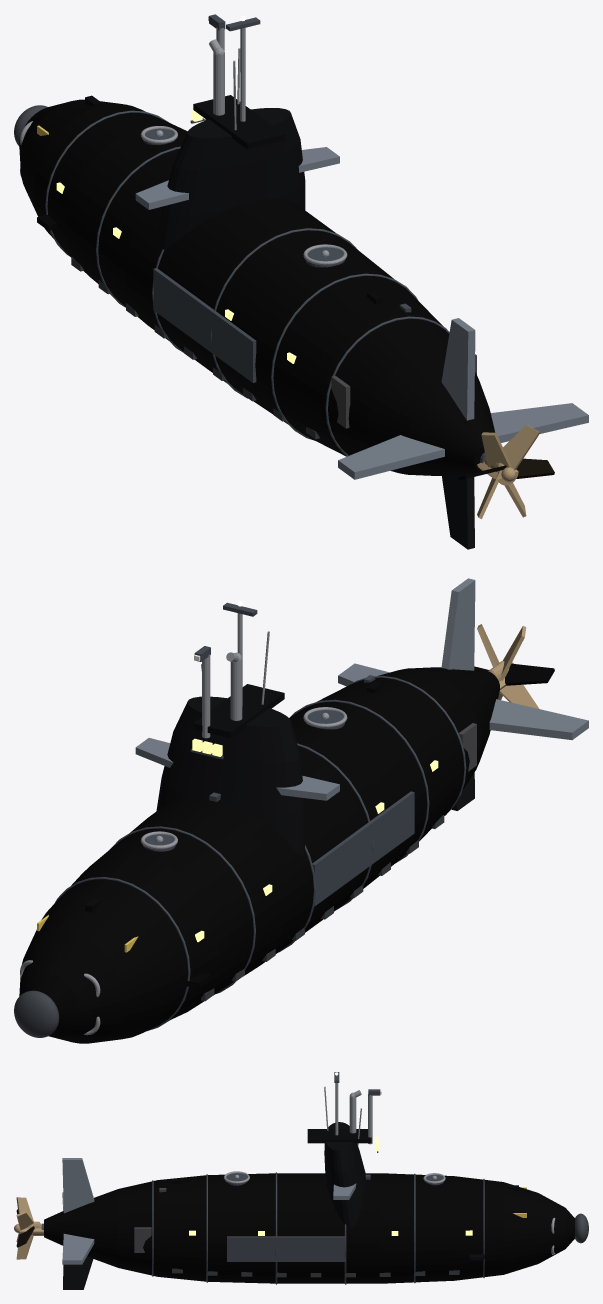
File: submarine.glb
3 renders of one model, top to bottom at view 1: azimuth 30°, elevation 25°; view 2: azimuth 150°, elevation 25°; view 3: azimuth 270°, elevation 25°, orthographic. The views are drawn at different scales.
Visible parts, largest first — view 1: part_0000_hull, part_0074_hull, part_0020_hull_dark, part_0110_hull_mid, part_0111_hull_mid, part_0109_hull_mid, part_0075_hull_dark, part_0112_hull_mid, part_0095_hull_mid, part_0120_bronze, part_0005_hull_dark, part_0094_hull_mid (+2 smaller); view 2: part_0000_hull, part_0074_hull, part_0020_hull_dark, part_0110_hull_mid, part_0111_hull_mid, part_0075_hull_dark, part_0007_sonar, part_0095_hull_mid, part_0122_bronze, part_0101_gunmetal, part_0001_hull_dark, part_0002_hull_dark (+3 smaller); view 3: part_0000_hull, part_0021_hull_dark, part_0074_hull, part_0111_hull_mid, part_0075_hull_dark, part_0109_hull_mid, part_0112_hull_mid, part_0066_joint, part_0007_sonar.
Part boxes in pixels (x1,y1,x2,y2): part_0000_hull: (19,99,495,475); part_0074_hull: (155,108,305,253); part_0020_hull_dark: (153,268,256,382); part_0110_hull_mid: (338,435,444,479); part_0111_hull_mid: (441,318,475,420); part_0109_hull_mid: (490,403,588,442); part_0075_hull_dark: (193,95,284,149); part_0112_hull_mid: (442,474,474,549); part_0095_hull_mid: (135,180,188,209); part_0120_bronze: (503,425,540,469); part_0005_hull_dark: (271,273,418,440); part_0094_hull_mid: (298,147,339,172); part_0000_hull: (19,667,499,1043); part_0074_hull: (156,696,305,855); part_0020_hull_dark: (312,791,414,906); part_0110_hull_mid: (489,699,588,740); part_0111_hull_mid: (441,578,475,670); part_0075_hull_dark: (193,684,284,738); part_0007_sonar: (14,990,59,1037); part_0095_hull_mid: (276,775,339,800); part_0122_bronze: (505,663,554,685); part_0101_gunmetal: (230,659,242,720); part_0001_hull_dark: (54,877,190,1030); part_0002_hull_dark: (109,826,255,993); part_0000_hull: (44,1173,574,1283); part_0021_hull_dark: (227,1236,345,1261); part_0074_hull: (324,1122,366,1228); part_0111_hull_mid: (62,1158,94,1213); part_0075_hull_dark: (307,1129,371,1143); part_0109_hull_mid: (62,1233,94,1264); part_0112_hull_mid: (63,1256,93,1289); part_0066_joint: (134,1227,151,1252); part_0007_sonar: (575,1213,588,1243).
Bounding box in the file's own units: 3.26 × 4.84 × 11.63.
